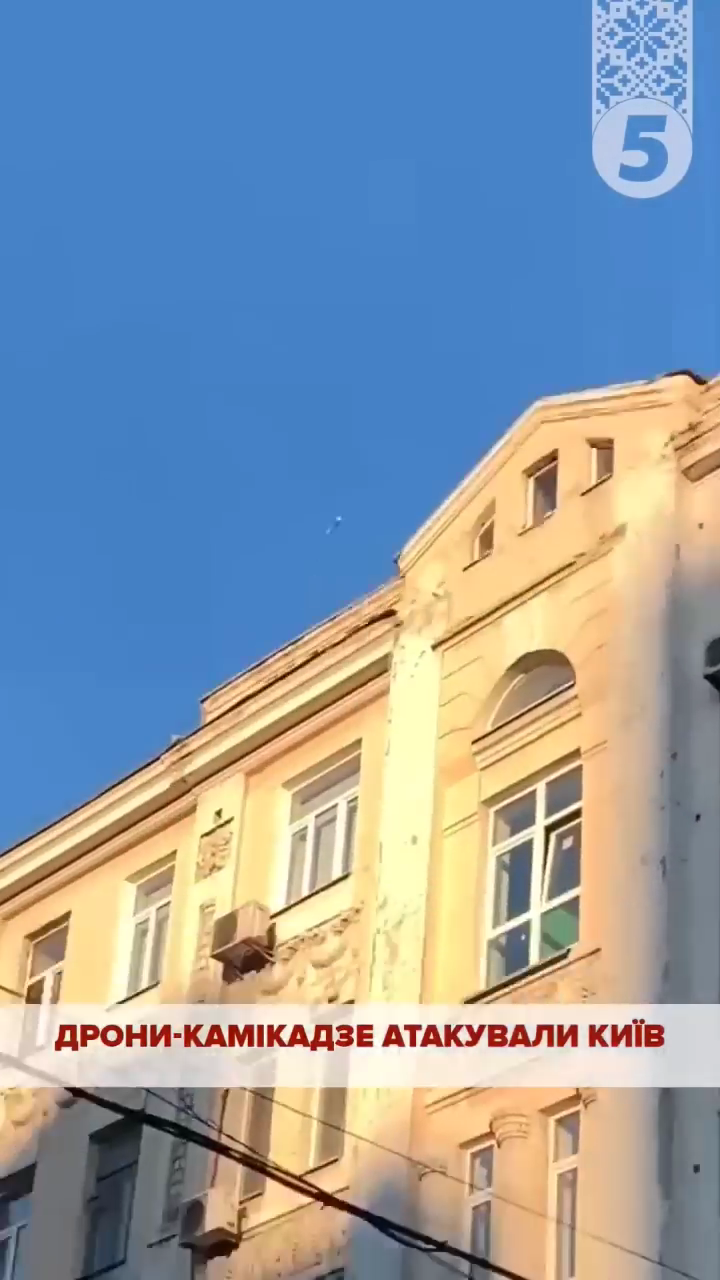shahed: (323, 512, 347, 536)
